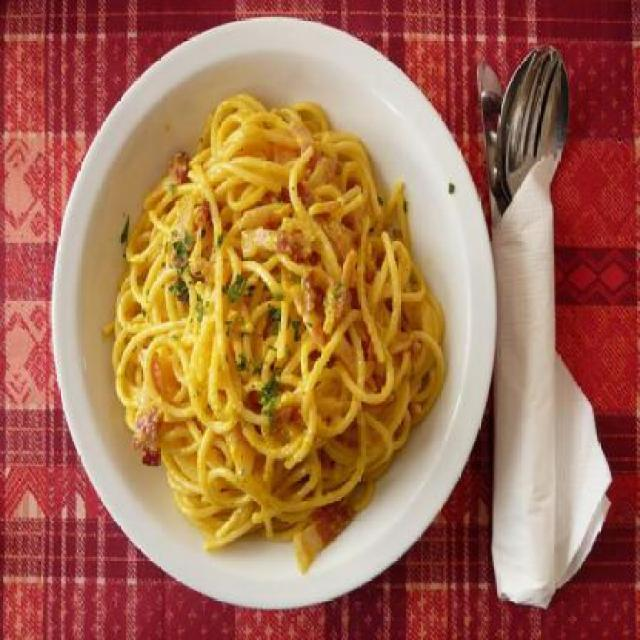Pasta with carbonara sauce: (66, 66, 489, 596)
